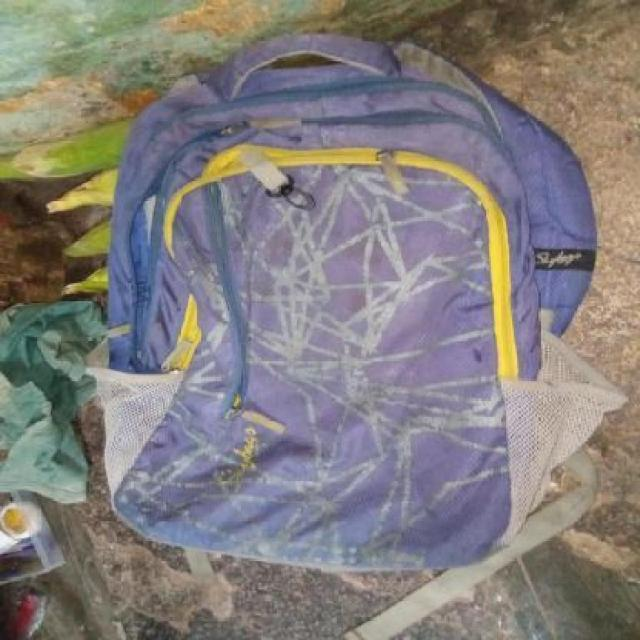backpack: (83, 23, 603, 579)
